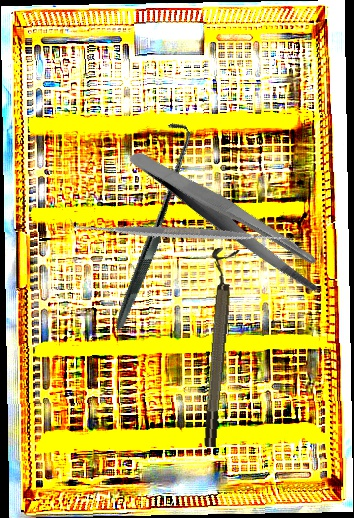Dressing Forceps: (126, 107, 333, 329)
Fixation Ring: (191, 247, 241, 448)
Hook Surgical: (41, 117, 258, 331)
Spatula Surgical: (69, 119, 299, 348)
